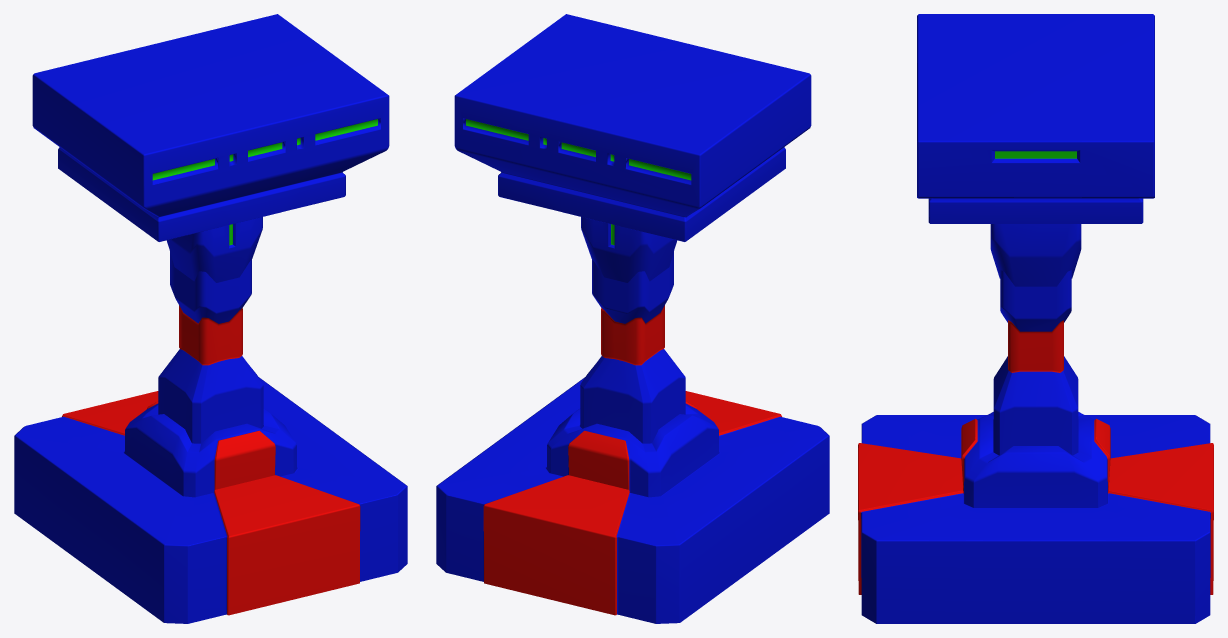
Rendered from Pillar2.fbx.
3 renders of one model, left to right at view 1: azimuth 30°, elevation 25°; view 2: azimuth 150°, elevation 25°; view 3: azimuth 270°, elevation 25°, orthographic. The views are drawn at different scales.
Parts seen in each view (by area): view 1: Pillar.001; view 2: Pillar.001; view 3: Pillar.001.
Boxes of the visible parts, x1,y1,x2,y2 form: Pillar.001: (14, 14, 407, 623); Pillar.001: (436, 14, 829, 623); Pillar.001: (858, 14, 1213, 623).
Size of the model in its own units: 300 by 528 by 352.
